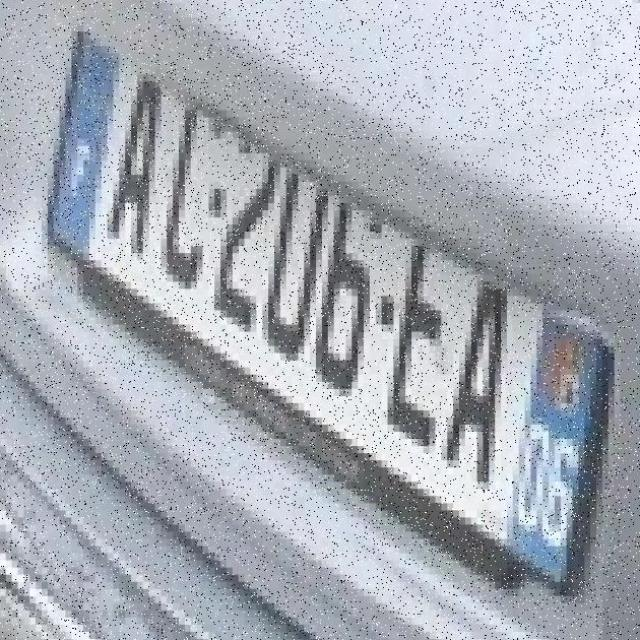LicensePlate: (28, 8, 622, 610)
